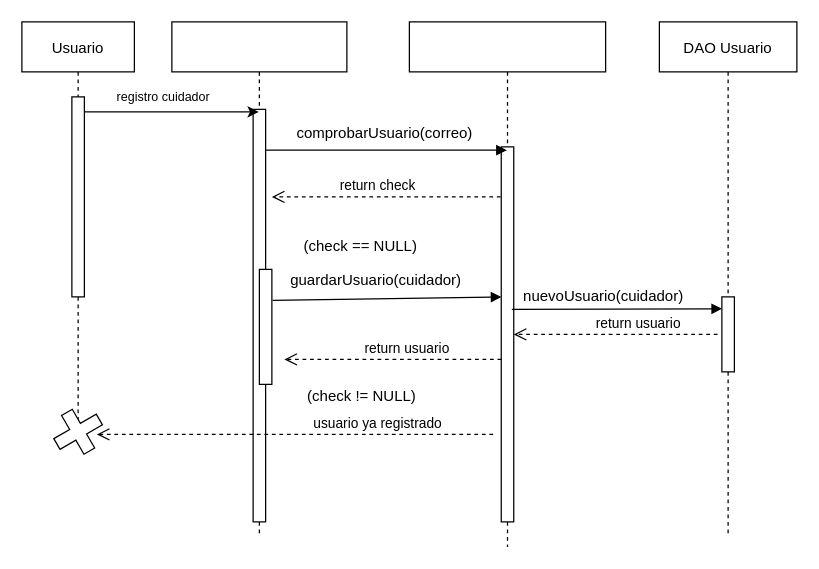
Some shapes in this 819 by 569 pixel diagram are drawn without their labels. The shapes that lost their labels are listed below. From the top down, each one's box as (x1, y1, x2, y2) in pixels, then its label:
(171, 21, 347, 534): Formulario registro
(408, 21, 606, 547): Controlador usuario
